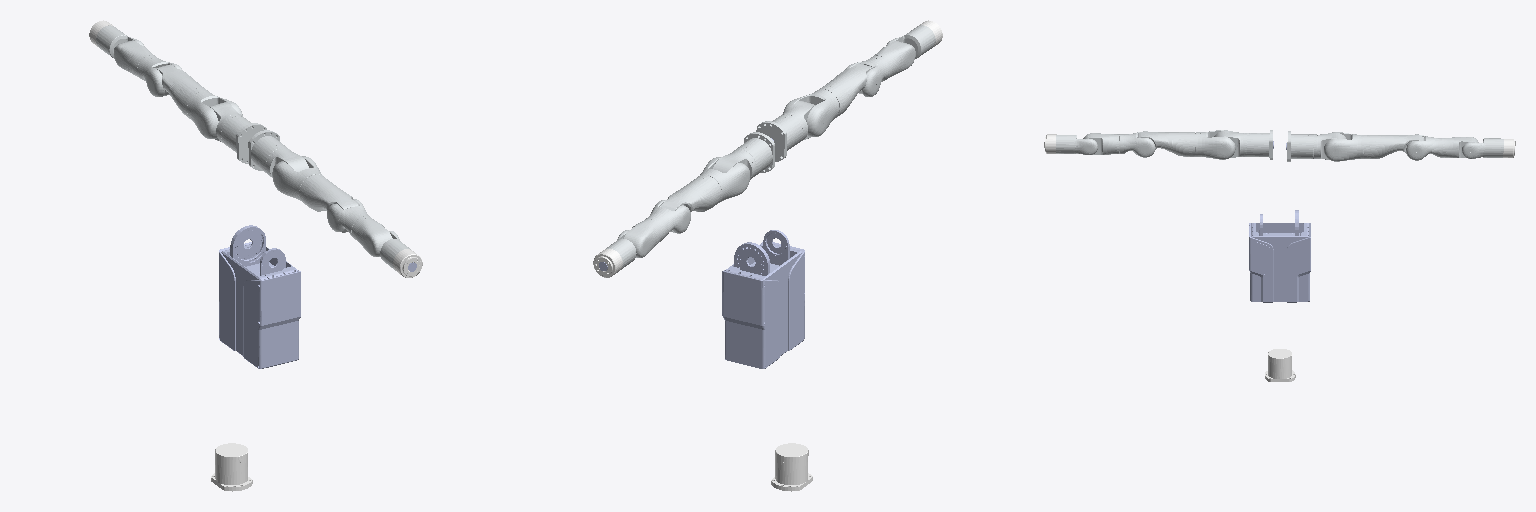
--- Facts derived from the render (not from the file) ---
3 views of the same robot in one strip: view 1: azimuth 30°, elevation 25°; view 2: azimuth 150°, elevation 25°; view 3: azimuth 270°, elevation 25° (orthographic).
Model vb2_robot_description with 27 links and 26 joints (15 revolute, 1 prismatic, 10 fixed), rooted at base_link, posed every joint at zero.
Links seen in each view (by area): view 1: waist_lift_link, body_link, r3, l2, l3, jaka_left_base_link, r2, r5, jaka_right_base_link, l4, r4, l5 (+3 smaller); view 2: waist_lift_link, body_link, l3, r2, jaka_right_base_link, r3, l2, l5, jaka_left_base_link, l4, r5, r4 (+3 smaller); view 3: waist_lift_link, l3, r3, r2, l2, body_link, l6, r6, jaka_left_base_link, r4, l4, jaka_right_base_link (+1 smaller).
Boxes of the visible links, x1,y1,x2,y2 form: waist_lift_link: (219, 225, 300, 368); body_link: (211, 443, 252, 491); r3: (299, 174, 358, 232); l2: (187, 91, 242, 138); l3: (156, 64, 208, 118); jaka_left_base_link: (221, 116, 266, 163); r2: (272, 156, 322, 200); r5: (352, 216, 392, 256); jaka_right_base_link: (248, 130, 289, 173); l4: (137, 55, 182, 96); r4: (327, 199, 369, 236); l5: (114, 40, 154, 76); waist_lift_link: (722, 230, 804, 368); body_link: (771, 443, 812, 491); l3: (660, 175, 721, 232); r2: (783, 89, 839, 136); jaka_right_base_link: (756, 114, 802, 161); r3: (819, 63, 873, 117); l2: (700, 157, 749, 202); l5: (624, 217, 664, 257); jaka_left_base_link: (734, 132, 774, 176); l4: (646, 200, 690, 237); r5: (874, 41, 915, 77); r4: (845, 56, 890, 96); waist_lift_link: (1249, 210, 1310, 302); l3: (1364, 135, 1423, 158); r3: (1133, 132, 1194, 156); r2: (1195, 130, 1235, 159); l2: (1324, 132, 1363, 161); body_link: (1265, 349, 1295, 381); l6: (1462, 138, 1503, 158); r6: (1056, 135, 1097, 154); jaka_left_base_link: (1287, 131, 1313, 161); r4: (1119, 131, 1155, 157); l4: (1406, 134, 1441, 160); jaka_right_base_link: (1247, 130, 1272, 159).
Size in the robot's own frame: 0.226 by 1.98 by 1.19 metres.
Meshes: 23 distinct files referenced, 22 mesh visuals loaded (20 binary STL); not drawn: 1 (reference not matched to a file when rendering).

URDF robot description (vb2_robot_description):
<?xml version="1.0" encoding="utf-8"?>
<!-- This URDF was automatically created by SolidWorks to URDF Exporter! Originally created by Stephen Brawner ([email redacted]) 
     Commit Version: 1.6.0-4-g7f85cfe  Build Version: 1.6.7995.38578
     For more information, please see http://wiki.ros.org/sw_urdf_exporter -->
<robot name="vb2_robot_description">
  <link name="base_link"/>
  <link name="body_link">
    <inertial>
      <origin xyz="-0.0251970799044455 8.52868180189679E-06 0.231530116008172" rpy="0 0 0" />
      <mass value="10.958069761735" />
      <inertia ixx="0.341839960083521" ixy="0.000982624278230509" ixz="0.0267988976156032" iyy="0.371180255026502" iyz="-0.000918163031179973" izz="0.473117101150532" />
    </inertial>
    <visual>
      <origin xyz="0 0 0" rpy="0 0 0" />
      <geometry>
        <mesh filename="package://vb2_robot_description/meshes/body/base_link.STL" />
      </geometry>
      <material name="">
        <color rgba="1 1 1 1" />
      </material>
    </visual>
    <collision>
      <origin xyz="0 0 0" rpy="0 0 0" />
      <geometry>
        <mesh filename="package://vb2_robot_description/meshes/body/base_link.STL" />
      </geometry>
    </collision>
  </link>
  <joint name="body_joint" type="fixed">
    <origin xyz="0 0 0.0" rpy="0 0 0" />
    <parent link="base_link" />
    <child link="body_link" />
  </joint>


  <link name="waist_lift_link">
    <inertial>
      <origin xyz="0.00012524 0.00097659 5.8284E-05" rpy="0 0 0" />
      <mass value="1.4015" />
      <inertia ixx="0.026179" ixy="-8.7251E-06" ixz="-0.00014781" iyy="0.017166" iyz="-0.00035677" izz="0.016586" />
    </inertial>
    <visual>
      <origin xyz="0 0 0" rpy="0 0 0" />
      <geometry>
        <mesh filename="package://vb2_robot_description/meshes/body/waist_lift_link.STL" />
      </geometry>
      <material name="">
        <color rgba="0.79216 0.81961 0.93333 1" />
      </material>
    </visual>
    <collision>
      <origin xyz="0 0 0" rpy="0 0 0" />
      <geometry>
        <mesh filename="package://vb2_robot_description/meshes/body/waist_lift_link.STL" />
      </geometry>
    </collision>
  </link>
  <joint name="waist_lift_joint" type="prismatic">
    <!-- !USM <origin xyz="0.1 0 0.6455" rpy="0 0 0" /> -->
    <!-- !vb2-1 -->
    <origin xyz="0.1 0 0.633" rpy="0 0 0" />
    <parent link="base_link" />
    <child link="waist_lift_link" />
    <axis xyz="0 0 1" />
    <limit lower="0" upper="0.25" effort="0" velocity="0" />
  </joint>
  <link name="waist_rotate_link">
    <inertial>
      <origin xyz="-0.003779 -0.0018054 0.17212" rpy="0 0 0" />
      <mass value="4.8011" />
      <inertia ixx="0.10715" ixy="1.9407E-05" ixz="0.0039927" iyy="0.094296" iyz="-0.00028871" izz="0.047274" />
    </inertial>
    <visual>
      <origin xyz="0 0 0" rpy="0 0 0" />
      <geometry>
        <mesh filename="package://vb2_robot_description/meshes/body/waist_rotate_link.STL" />
      </geometry>
      <material name="">
        <color rgba="0.79216 0.81961 0.93333 1" />
      </material>
    </visual>
    <collision>
      <origin xyz="0 0 0" rpy="0 0 0" />
      <geometry>
        <mesh filename="package://vb2_robot_description/meshes/body/waist_rotate_link.STL" />
      </geometry>
    </collision>
  </link>
  <joint name="waist_rotate_joint" type="revolute">
    <origin xyz="0 0 0.125" rpy="0 0 0" />
    <parent link="waist_lift_link" />
    <child link="waist_rotate_link" />
    <axis xyz="0 -1 0" />
    <limit lower="-0.785" upper="0" effort="0" velocity="0" />
  </joint>
  
  <link name="jaka_left_link">
    <inertial>
      <origin xyz="1.3878E-17 -0.0025 -4.4409E-16" rpy="0 0 0" />
      <mass value="0.0035343" />
      <inertia ixx="2.0617E-07" ixy="-2.0885E-23" ixz="2.4694E-38" iyy="3.9761E-07" iyz="4.1206E-24" izz="2.0617E-07" />
    </inertial>
    <visual>
      <origin xyz="0 0 0" rpy="0 0 0" />
      <geometry>
        <mesh filename="package://vb2_robot_description/meshes/body/jaka_left_base_link.STL" />
      </geometry>
      <material name="">
        <color rgba="0.79216 0.81961 0.93333 1" />
      </material>
    </visual>
    <collision>
      <origin xyz="0 0 0" rpy="0 0 0" />
      <geometry>
        <mesh filename="package://vb2_robot_description/meshes/body/jaka_left_base_link.STL" />
      </geometry>
    </collision>
  </link>
  <joint name="jaka_left_joint" type="fixed">
    <!-- !USM <origin xyz="0 0.03 0.368" rpy="0 0 0" /> -->
    <!-- !vb2-1 -->
    <!-- <origin xyz="0 0.03 0.35" rpy="0 0 0" />
    <parent link="waist_rotate_link" /> -->
    <!-- 标定后 -->
    <origin xyz="-0.051893149 -0.234210701 -0.103264933" rpy="2.917451 -1.539174 -1.351978" />
    <parent link="HS3310_link" />
    <child link="jaka_left_link" />
  </joint>
  <link name="jaka_right_link">
    <inertial>
      <origin xyz="-2.7756E-17 0.0025 0" rpy="0 0 0" />
      <mass value="0.0035343" />
      <inertia ixx="2.0617E-07" ixy="3.9632E-23" ixz="2.5996E-38" iyy="3.9761E-07" iyz="4.1206E-24" izz="2.0617E-07" />
    </inertial>
    <visual>
      <origin xyz="0 0 0" rpy="0 0 0" />
      <geometry>
        <mesh filename="package://vb2_robot_description/meshes/body/jaka_right_base_link.STL" />
      </geometry>
      <material name="">
        <color rgba="0.79216 0.81961 0.93333 1" />
      </material>
    </visual>
    <collision>
      <origin xyz="0 0 0" rpy="0 0 0" />
      <geometry>
        <mesh filename="package://vb2_robot_description/meshes/body/jaka_right_base_link.STL" />
      </geometry>
    </collision>
  </link>
  <joint name="jaka_right_joint" type="fixed">
    <!-- !USM <origin xyz="0 -0.03 0.368" rpy="0 0 0" /> -->
    <!-- !vb2-1 -->
    <!-- <origin xyz="0 -0.03 0.35" rpy="0 0 0" />
    <parent link="waist_rotate_link" /> -->
    <!-- 标定后 -->
    <origin xyz="0.008920934 -0.241096213 -0.102657644 " rpy="2.274 -1.539 -0.697" />
    <parent link="HS3310_link" />
    <child link="jaka_right_link" />
  </joint>

  <!-- jaka left arm -->
  <link name="jaka_left_base_link">
    <inertial>
      <origin xyz="-1.11166631455717E-12 6.05753558424738E-10 0.0527092716866375" rpy="0 0 0" />
      <mass value="2.65143721613807" />
      <inertia ixx="0.00475738389153103" ixy="-5.95934896029248E-12" ixz="-9.09286133435972E-14" iyy="0.00459825420119207" iyz="-2.97976271757394E-11" izz="0.00370585568871224" />
    </inertial>
    <visual>
      <origin xyz="0 0 0" rpy="0 0 0" />
      <geometry>
        <mesh filename="package://vb2_robot_description/meshes/jaka_left_arm/base_link.STL" />
      </geometry>
      <material name="">
        <color rgba="0.898039215686275 0.917647058823529 0.929411764705882 1" />
      </material>
    </visual>
    <collision>
      <origin xyz="0 0 0" rpy="0 0 0" />
      <geometry>
        <mesh filename="package://vb2_robot_description/meshes/jaka_left_arm/base_link.STL" />
      </geometry>
    </collision>
  </link>
  <joint name="jaka_left_base_joint" type="fixed">
    <origin xyz="0 0 0" rpy="-1.5707963 0 0" />
    <parent link="jaka_left_link" />
    <child link="jaka_left_base_link" />
  </joint>
  <link name="l1">
    <inertial>
      <origin xyz="-2.46089259270388E-06 -2.84970803954288E-07 0.164287024147324" rpy="0 0 0" />
      <mass value="1.4907907847092" />
      <inertia ixx="0.0030595188968923" ixy="1.23224145473104E-07" ixz="4.7234802831064E-08" iyy="0.00378376232211127" iyz="-3.76862386224473E-08" izz="0.00212531859055589" />
    </inertial>
    <visual>
      <origin xyz="0 0 0" rpy="0 0 0" />
      <geometry>
        <mesh filename="package://vb2_robot_description/meshes/jaka_left_arm/l1.STL" />
      </geometry>
      <material name="">
        <color rgba="0.898039215686275 0.917647058823529 0.929411764705882 1" />
      </material>
    </visual>
    <collision>
      <origin xyz="0 0 0" rpy="0 0 0" />
      <geometry>
        <mesh filename="package://vb2_robot_description/meshes/jaka_left_arm/l1.STL" />
      </geometry>
    </collision>
  </link>
  <joint name="l_j1" type="revolute">
    <origin xyz="0 0 0" rpy="0 0 -1.5708" />
    <parent link="jaka_left_base_link" />
    <child link="l1" />
    <axis xyz="0 0 1" />
    <limit lower="-6.2831" upper="6.2831" effort="0" velocity="0" />
  </joint>
  <link name="l2">
    <inertial>
      <origin xyz="-0.00348811639068414 -0.0451640844014566 -0.000762978610482329" rpy="0 0 0" />
      <mass value="2.70256692795753" />
      <inertia ixx="0.00982602108227595" ixy="-0.000302421298853649" ixz="7.23672460560105E-06" iyy="0.00590953952283702" iyz="9.32631657353728E-05" izz="0.00747854000665196" />
    </inertial>
    <visual>
      <origin xyz="0 0 0" rpy="0 0 0" />
      <geometry>
        <mesh filename="package://vb2_robot_description/meshes/jaka_left_arm/l2.STL" />
      </geometry>
      <material name="">
        <color rgba="0.898039215686275 0.917647058823529 0.929411764705882 1" />
      </material>
    </visual>
    <collision>
      <origin xyz="0 0 0" rpy="0 0 0" />
      <geometry>
        <mesh filename="package://vb2_robot_description/meshes/jaka_left_arm/l2.STL" />
      </geometry>
    </collision>
  </link>
  <joint name="l_j2" type="revolute">
    <origin xyz="0 0 0.203" rpy="-1.5708 0 0" />
    <parent link="l1" />
    <child link="l2" />
    <axis xyz="0 0 1" />
    <limit lower="-1.8325" upper="1.8325" effort="0" velocity="0" />
  </joint>
  <link name="l3">
    <inertial>
      <origin xyz="-0.00699746985937827 -0.000446252744778108 0.236700984606428" rpy="0 0 0" />
      <mass value="3.5479020475757" />
      <inertia ixx="0.0185299155929474" ixy="1.22555145339142E-06" ixz="0.000124487295297341" iyy="0.0186988857034901" iyz="-1.68829932415711E-05" izz="0.00375501658944992" />
    </inertial>
    <visual>
      <origin xyz="0 0 0" rpy="0 0 0" />
      <geometry>
        <mesh filename="package://vb2_robot_description/meshes/jaka_left_arm/l3.STL" />
      </geometry>
      <material name="">
        <color rgba="0.898039215686275 0.917647058823529 0.929411764705882 1" />
      </material>
    </visual>
    <collision>
      <origin xyz="0 0 0" rpy="0 0 0" />
      <geometry>
        <mesh filename="package://vb2_robot_description/meshes/jaka_left_arm/l3.STL" />
      </geometry>
    </collision>
  </link>
  <joint name="l_j3" type="revolute">
    <origin xyz="0 0 0" rpy="-1.5708 0 3.1416" />
    <parent link="l2" />
    <child link="l3" />
    <axis xyz="0 0 1" />
    <limit lower="-6.2831" upper="6.2831" effort="0" velocity="0" />
  </joint>
  <link name="l4">
    <inertial>
      <origin xyz="0.00585740744905894 -0.0314019238103633 0.000428273273246155" rpy="0 0 0" />
      <mass value="1.47373567274524" />
      <inertia ixx="0.00377869099038954" ixy="0.000218862142889913" ixz="-9.99763645881045E-08" iyy="0.00227042793327652" iyz="8.03576591258955E-06" izz="0.00281134195603674" />
    </inertial>
    <visual>
      <origin xyz="0 0 0" rpy="0 0 0" />
      <geometry>
        <mesh filename="package://vb2_robot_description/meshes/jaka_left_arm/l4.STL" />
      </geometry>
      <material name="">
        <color rgba="0.898039215686275 0.917647058823529 0.929411764705882 1" />
      </material>
    </visual>
    <collision>
      <origin xyz="0 0 0" rpy="0 0 0" />
      <geometry>
        <mesh filename="package://vb2_robot_description/meshes/jaka_left_arm/l4.STL" />
      </geometry>
    </collision>
  </link>
  <joint name="l_j4" type="revolute">
    <origin xyz="0.00040047 0 0.3405" rpy="-1.5708 0 -3.1416" />
    <parent link="l3" />
    <child link="l4" />
    <axis xyz="0 0 1" />
    <limit lower="-2.5307" upper="0.5235" effort="0" velocity="0" />
  </joint>
  <link name="l5">
    <inertial>
      <origin xyz="-2.89934462277541E-06 0.00407892339164011 0.183529656371899" rpy="0 0 0" />
      <mass value="2.28083614923683" />
      <inertia ixx="0.00549246978922256" ixy="2.00179486326029E-07" ixz="2.24427581574717E-07" iyy="0.00557866184825314" iyz="-0.000384181497552219" izz="0.00195895181252497" />
    </inertial>
    <visual>
      <origin xyz="0 0 0" rpy="0 0 0" />
      <geometry>
        <mesh filename="package://vb2_robot_description/meshes/jaka_left_arm/l5.STL" />
      </geometry>
      <material name="">
        <color rgba="0.898039215686275 0.917647058823529 0.929411764705882 1" />
      </material>
    </visual>
    <collision>
      <origin xyz="0 0 0" rpy="0 0 0" />
      <geometry>
        <mesh filename="package://vb2_robot_description/meshes/jaka_left_arm/l5.STL" />
      </geometry>
    </collision>
  </link>
  <joint name="l_j5" type="revolute">
    <origin xyz="0 0 0" rpy="-1.5708 0 -3.1416" />
    <parent link="l4" />
    <child link="l5" />
    <axis xyz="0 0 1" />
    <limit lower="-6.2831" upper="6.2831" effort="0" velocity="0" />
  </joint>
  <link name="l6">
    <inertial>
      <origin xyz="-1.74515663808883E-07 -0.0869630242340927 0.00555273370174895" rpy="0 0 0" />
      <mass value="1.76168273075004" />
      <inertia ixx="0.0044404168516555" ixy="2.375821924305E-08" ixz="6.28763061286534E-09" iyy="0.00157714240799763" iyz="-0.00076969127576894" izz="0.00425162477583013" />
    </inertial>
    <visual>
      <origin xyz="0 0 0" rpy="0 0 0" />
      <geometry>
        <mesh filename="package://vb2_robot_description/meshes/jaka_left_arm/l6.STL" />
      </geometry>
      <material name="">
        <color rgba="0.898039215686275 0.917647058823529 0.929411764705882 1" />
      </material>
    </visual>
    <collision>
      <origin xyz="0 0 0" rpy="0 0 0" />
      <geometry>
        <mesh filename="package://vb2_robot_description/meshes/jaka_left_arm/l6.STL" />
      </geometry>
    </collision>
  </link>
  <joint name="l_j6" type="revolute">
    <origin xyz="0 0 0.22694" rpy="-1.5708 0 -3.1416" />
    <parent link="l5" />
    <child link="l6" />
    <axis xyz="0 0 1" />
    <limit lower="-1.5707" upper="1.5707" effort="0" velocity="0" />
  </joint>
  <link name="l7">
    <inertial>
      <origin xyz="2.69418597542703E-07 -2.94990448034826E-05 0.176217274894146" rpy="0 0 0" />
      <mass value="0.634983447813082" />
      <inertia ixx="0.000369700889597726" ixy="3.07621123817192E-13" ixz="2.61093000823341E-13" iyy="0.000370207332440143" iyz="4.29842702140501E-07" izz="0.000512144747874418" />
    </inertial>
    <visual>
      <origin xyz="0 0 0" rpy="0 0 0" />
      <geometry>
        <mesh filename="package://vb2_robot_description/meshes/jaka_left_arm/l7.STL" />
      </geometry>
      <material name="">
        <color rgba="1 1 1 1" />
      </material>
    </visual>
    <collision>
      <origin xyz="0 0 0" rpy="0 0 0" />
      <geometry>
        <mesh filename="package://vb2_robot_description/meshes/jaka_left_arm/l7.STL" />
      </geometry>
    </collision>
  </link>
  <joint name="l_j7" type="revolute">
    <origin xyz="0 0 0" rpy="1.5708 0 0" />
    <parent link="l6" />
    <child link="l7" />
    <axis xyz="0 0 1" />
    <limit lower="-6.2831" upper="6.2831" effort="0" velocity="0" />
  </joint>
  <link name="lt">
    <inertial>
      <origin xyz="1.11022302462516E-16 1.38777878078145E-17 -0.00100000000000011" rpy="0 0 0" />
      <mass value="0.00155862265526231" />
      <inertia ixx="9.71784989903392E-08" ixy="2.00584569560588E-24" ixz="-1.11669382694659E-23" iyy="9.71784989903392E-08" iyz="2.69722272003375E-24" izz="1.93317916210503E-07" />
    </inertial>
    <visual>
      <origin xyz="0 0 0" rpy="0 0 0" />
      <geometry>
        <mesh filename="package://vb2_robot_description/meshes/jaka_left_arm/lt.STL" />
      </geometry>
      <material name="">
        <color rgba="0.792156862745098 0.819607843137255 0.933333333333333 1" />
      </material>
    </visual>
    <collision>
      <origin xyz="0 0 0" rpy="0 0 0" />
      <geometry>
        <mesh filename="package://vb2_robot_description/meshes/jaka_left_arm/lt.STL" />
      </geometry>
    </collision>
  </link>
  <joint name="l_t" type="fixed">
    <origin xyz="0 0 0.18827" rpy="0 0 0" />
    <parent link="l7" />
    <child link="lt" />
    <axis xyz="0 0 0" />
  </joint>

  <link name="left_tool_link"/>
  <joint name="left_tool_joint" type="fixed">
    <origin xyz="0 0 0" rpy="0 0 0" />
    <parent link="lt" />
    <child link="left_tool_link" />
    <axis xyz="0 0 0" />
  </joint>

  <!-- jaka right arm -->
  <link name="jaka_right_base_link">
    <inertial>
      <origin xyz="1.11166631455717E-12 -6.05753558424738E-10 0.0527092716866375" rpy="0 0 0" />
      <mass value="2.65143721613807" />
      <inertia ixx="0.00475738389153103" ixy="-5.95934905864509E-12" ixz="9.0928659444995E-14" iyy="0.00459825420119207" iyz="2.97976273849371E-11" izz="0.00370585568871224" />
    </inertial>
    <visual>
      <origin xyz="0 0 0" rpy="0 0 0" />
      <geometry>
        <mesh filename="package://vb2_robot_description/meshes/jaka_right_arm/base_link.STL" />
      </geometry>
      <material name="">
        <color rgba="0.898039215686275 0.917647058823529 0.929411764705882 1" />
      </material>
    </visual>
    <collision>
      <origin xyz="0 0 0" rpy="0 0 0" />
      <geometry>
        <mesh filename="package://vb2_robot_description/meshes/jaka_right_arm/base_link.STL" />
      </geometry>
    </collision>
  </link>
  <joint name="jaka_right_base_joint" type="fixed">
    <origin xyz="0 0 0" rpy="-1.5707963 0 3.1415926" />
    <parent link="jaka_right_link" />
    <child link="jaka_right_base_link" />
  </joint>
  <link name="r1">
    <inertial>
      <origin xyz="2.46089330108168E-06 2.84970774561133E-07 0.164287024147328" rpy="0 0 0" />
      <mass value="1.49079078470936" />
      <inertia ixx="0.00305951889689259" ixy="1.23224145473539E-07" ixz="-4.72348068028591E-08" iyy="0.00378376232211153" iyz="3.76862388648401E-08" izz="0.00212531859055613" />
    </inertial>
    <visual>
      <origin xyz="0 0 0" rpy="0 0 0" />
      <geometry>
        <mesh filename="package://vb2_robot_description/meshes/jaka_right_arm/r1.STL" />
      </geometry>
      <material name="">
        <color rgba="0.898039215686275 0.917647058823529 0.929411764705882 1" />
      </material>
    </visual>
    <collision>
      <origin xyz="0 0 0" rpy="0 0 0" />
      <geometry>
        <mesh filename="package://vb2_robot_description/meshes/jaka_right_arm/r1.STL" />
      </geometry>
    </collision>
  </link>
  <joint name="r_j1" type="revolute">
    <origin xyz="0 0 0" rpy="0 0 1.5708" />
    <parent link="jaka_right_base_link" />
    <child link="r1" />
    <axis xyz="0 0 1" />
    <limit lower="-6.2832" upper="6.2832" effort="0" velocity="0" />
  </joint>
  <link name="r2">
    <inertial>
      <origin xyz="-1.71093757583285E-05 -0.0452985721312201 0.000762955289202616" rpy="0 0 0" />
      <mass value="2.70256307184883" />
      <inertia ixx="0.00984922872707276" ixy="-3.34424080735711E-06" ixz="1.12868357873839E-09" iyy="0.00588632047318316" iyz="-9.35439174939498E-05" izz="0.00747853193882275" />
    </inertial>
    <visual>
      <origin xyz="0 0 0" rpy="0 0 0" />
      <geometry>
        <mesh filename="package://vb2_robot_description/meshes/jaka_right_arm/r2.STL" />
      </geometry>
      <material name="">
        <color rgba="0.898039215686275 0.917647058823529 0.929411764705882 1" />
      </material>
    </visual>
    <collision>
      <origin xyz="0 0 0" rpy="0 0 0" />
      <geometry>
        <mesh filename="package://vb2_robot_description/meshes/jaka_right_arm/r2.STL" />
      </geometry>
    </collision>
  </link>
  <joint name="r_j2" type="revolute">
    <origin xyz="0 0 0.2075" rpy="-1.5708 0 0" />
    <parent link="r1" />
    <child link="r2" />
    <axis xyz="0 0 -1" />
    <limit lower="-1.8325" upper="1.8325" effort="0" velocity="0" />
  </joint>
  <link name="r3">
    <inertial>
      <origin xyz="0.00699731121913066 -0.000445772591236654 -0.236701008892725" rpy="0 0 0" />
      <mass value="3.54789151285921" />
      <inertia ixx="0.0185299010490046" ixy="-1.22457898248011E-06" ixz="0.00012448607887989" iyy="0.0186988856311153" iyz="1.6911908257329E-05" izz="0.00375500728039875" />
    </inertial>
    <visual>
      <origin xyz="0 0 0" rpy="0 0 0" />
      <geometry>
        <mesh filename="package://vb2_robot_description/meshes/jaka_right_arm/r3.STL" />
      </geometry>
      <material name="">
        <color rgba="0.898039215686275 0.917647058823529 0.929411764705882 1" />
      </material>
    </visual>
    <collision>
      <origin xyz="0 0 0" rpy="0 0 0" />
      <geometry>
        <mesh filename="package://vb2_robot_description/meshes/jaka_right_arm/r3.STL" />
      </geometry>
    </collision>
  </link>
  <joint name="r_j3" type="revolute">
    <origin xyz="0 0 0" rpy="1.5708 0 3.1416" />
    <parent link="r2" />
    <child link="r3" />
    <axis xyz="0 0 -1" />
    <limit lower="-6.2832" upper="6.2832" effort="0" velocity="0" />
  </joint>
  <link name="r4">
    <inertial>
      <origin xyz="0.00464514398879598 0.0316039478429687 -0.000428086479630468" rpy="0 0 0" />
      <mass value="1.47374255934675" />
      <inertia ixx="0.00379329381039364" ixy="-0.000160244555641476" ixz="-2.06625013224252E-07" iyy="0.00225584782324939" iyz="8.0342550870751E-06" izz="0.00281134501628177" />
    </inertial>
    <visual>
      <origin xyz="0 0 0" rpy="0 0 0" />
      <geometry>
        <mesh filename="package://vb2_robot_description/meshes/jaka_right_arm/r4.STL" />
      </geometry>
      <material name="">
        <color rgba="0.898039215686275 0.917647058823529 0.929411764705882 1" />
      </material>
    </visual>
    <collision>
      <origin xyz="0 0 0" rpy="0 0 0" />
      <geometry>
        <mesh filename="package://vb2_robot_description/meshes/jaka_right_arm/r4.STL" />
      </geometry>
    </collision>
  </link>
  <joint name="r_j4" type="revolute">
    <origin xyz="-0.00040046 0 -0.33028" rpy="-1.5708 0 0" />
    <parent link="r3" />
    <child link="r4" />
    <axis xyz="0 0 -1" />
    <limit lower="-2.5307" upper="0.5235" effort="0" velocity="0" />
  </joint>
  <link name="r5">
    <inertial>
      <origin xyz="2.21934846231231E-06 -0.00407989097946271 0.183530137971577" rpy="0 0 0" />
      <mass value="2.28087661840322" />
      <inertia ixx="0.00549252085210875" ixy="1.62381294089941E-07" ixz="-1.62547546702497E-07" iyy="0.00557867055594488" iyz="0.000384258276813551" izz="0.0019590051756608" />
    </inertial>
    <visual>
      <origin xyz="0 0 0" rpy="0 0 0" />
      <geometry>
        <mesh filename="package://vb2_robot_description/meshes/jaka_right_arm/r5.STL" />
      </geometry>
      <material name="">
        <color rgba="0.898039215686275 0.917647058823529 0.929411764705882 1" />
      </material>
    </visual>
    <collision>
      <origin xyz="0 0 0" rpy="0 0 0" />
      <geometry>
        <mesh filename="package://vb2_robot_description/meshes/jaka_right_arm/r5.STL" />
      </geometry>
    </collision>
  </link>
  <joint name="r_j5" type="revolute">
    <origin xyz="0 0 0" rpy="1.5708 0 -3.1416" />
    <parent link="r4" />
    <child link="r5" />
    <axis xyz="0 0 1" />
    <limit lower="-6.2832" upper="6.2832" effort="0" velocity="0" />
  </joint>
  <link name="r6">
    <inertial>
      <origin xyz="-1.87505902221607E-07 -0.0869630161568319 0.0055480090278294" rpy="0 0 0" />
      <mass value="1.76168294752248" />
      <inertia ixx="0.00444041795923784" ixy="2.4494168178014E-08" ixz="6.87068564705225E-09" iyy="0.00157714249117262" iyz="-0.000769691499829544" izz="0.00425162601622334" />
    </inertial>
    <visual>
      <origin xyz="0 0 0" rpy="0 0 0" />
      <geometry>
        <mesh filename="package://vb2_robot_description/meshes/jaka_right_arm/r6.STL" />
      </geometry>
      <material name="">
        <color rgba="0.898039215686275 0.917647058823529 0.929411764705882 1" />
      </material>
    </visual>
    <collision>
      <origin xyz="0 0 0" rpy="0 0 0" />
      <geometry>
        <mesh filename="package://vb2_robot_description/meshes/jaka_right_arm/r6.STL" />
      </geometry>
    </collision>
  </link>
  <joint name="r_j6" type="revolute">
    <origin xyz="0 0 0.23494" rpy="-1.5708 0 0" />
    <parent link="r5" />
    <child link="r6" />
    <axis xyz="0 0 1" />
    <limit lower="-1.8325" upper="1.8325" effort="0" velocity="0" />
  </joint>
  <link name="r7">
    <inertial>
      <origin xyz="1.42835471839131E-07 -3.41914556708789E-05 0.176217274900879" rpy="0 0 0" />
      <mass value="0.634983447813083" />
      <inertia ixx="0.0003697008895978" ixy="-3.08834639143619E-13" ixz="-1.0233696538607E-10" iyy="0.000370207332605644" iyz="4.29870025767548E-07" izz="0.000512144747708847" />
    </inertial>
    <visual>
      <origin xyz="0 0 0" rpy="0 0 0" />
      <geometry>
        <mesh filename="package://vb2_robot_description/meshes/jaka_right_arm/r7.STL" />
      </geometry>
      <material name="">
        <color rgba="1 1 1 1" />
      </material>
    </visual>
    <collision>
      <origin xyz="0 0 0" rpy="0 0 0" />
      <geometry>
        <mesh filename="package://vb2_robot_description/meshes/jaka_right_arm/r7.STL" />
      </geometry>
    </collision>
  </link>
  <joint name="r_j7" type="revolute">
    <origin xyz="0 0 0" rpy="1.5708 0 0" />
    <parent link="r6" />
    <child link="r7" />
    <axis xyz="0 0 1" />
    <limit lower="-6.2832" upper="6.2832" effort="0" velocity="0" />
  </joint>
  <link name="rt">
    <inertial>
      <origin xyz="7.18437170865727E-10 -1.92504789886527E-10 -0.00099999999999989" rpy="0 0 0" />
      <mass value="0.00155862265526229" />
      <inertia ixx="9.71784989903875E-08" ixy="-1.32871153202434E-20" ixz="-6.90701328589823E-14" iyy="9.71784989903415E-08" iyz="1.85072947766703E-14" izz="1.93317916210448E-07" />
    </inertial>
    <visual>
      <origin xyz="0 0 0" rpy="0 0 0" />
      <geometry>
        <mesh filename="package://vb2_robot_description/meshes/jaka_right_arm/rt.STL" />
      </geometry>
      <material name="">
        <color rgba="0.792156862745098 0.819607843137255 0.933333333333333 1" />
      </material>
    </visual>
    <collision>
      <origin xyz="0 0 0" rpy="0 0 0" />
      <geometry>
        <mesh filename="package://vb2_robot_description/meshes/jaka_right_arm/rt.STL" />
      </geometry>
    </collision>
  </link>
  <joint name="r_t" type="fixed">
    <origin xyz="0 0 0.18827" rpy="0 0 0" />
    <parent link="r7" />
    <child link="rt" />
    <axis xyz="0 0 0" />
  </joint>

  <link name="right_tool_link"/>
  <joint name="right_tool_joint" type="fixed">
    <origin xyz="0 0 0" rpy="0 0 0" />
    <parent link="rt" />
    <child link="right_tool_link" />
    <axis xyz="0 0 0" />
  </joint>

  <link name="HS3310_link"/>
  <joint name="HS3310_joint" type="fixed">
    <!-- <origin xyz="0.096504 0 0.12297" rpy="-1.5708 0 -1.5708" /> -->
    <!-- 标定后补偿0.03−0.008920934=0.021079066 -->
    <origin xyz="0.096504 -0.021079066 0.12297" rpy="-1.5708 0 -1.5708" />
    <parent link="waist_rotate_link" />
    <child link="HS3310_link" />
  </joint>
 
</robot>
